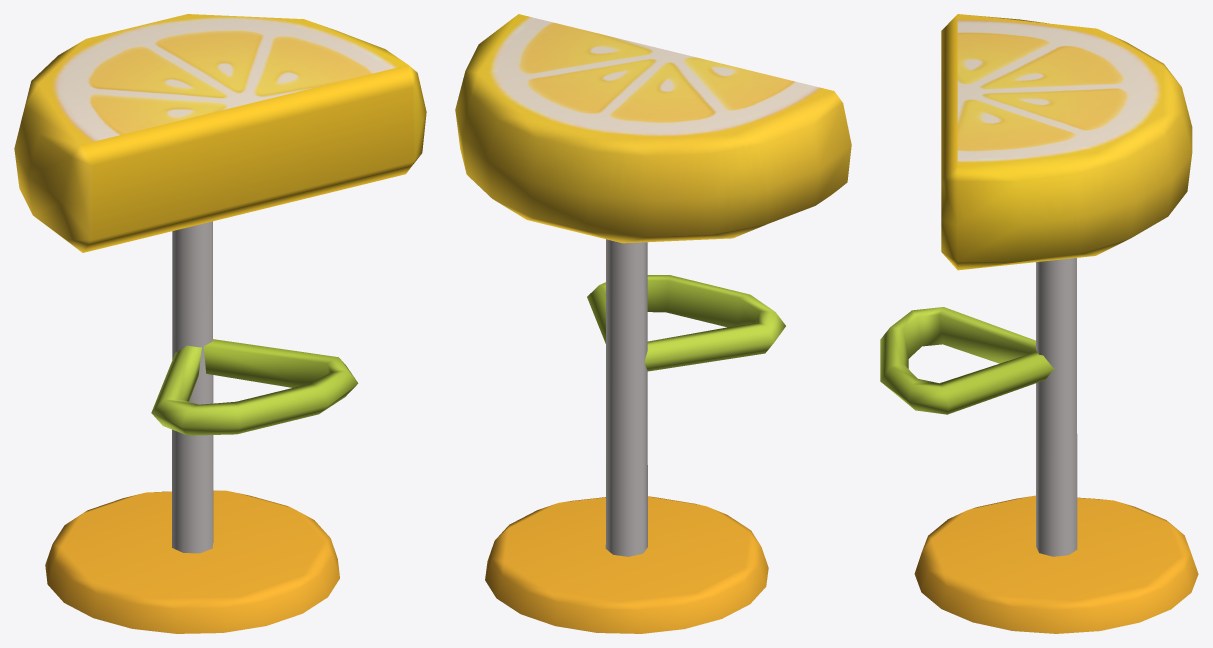
File: Homestead_nm_3.fbx
3 renders of one model, left to right at view 1: azimuth 30°, elevation 25°; view 2: azimuth 150°, elevation 25°; view 3: azimuth 270°, elevation 25°, orthographic. The views are drawn at different scales.
Visible parts, largest first — view 1: Homestead_nm_3; view 2: Homestead_nm_3; view 3: Homestead_nm_3.
Part boxes in pixels (bbox=[...]): Homestead_nm_3: bbox=[14, 14, 426, 633]; Homestead_nm_3: bbox=[455, 14, 851, 633]; Homestead_nm_3: bbox=[880, 14, 1198, 633].
Size of the model in its own units: 73.16 by 96.75 by 57.73.
